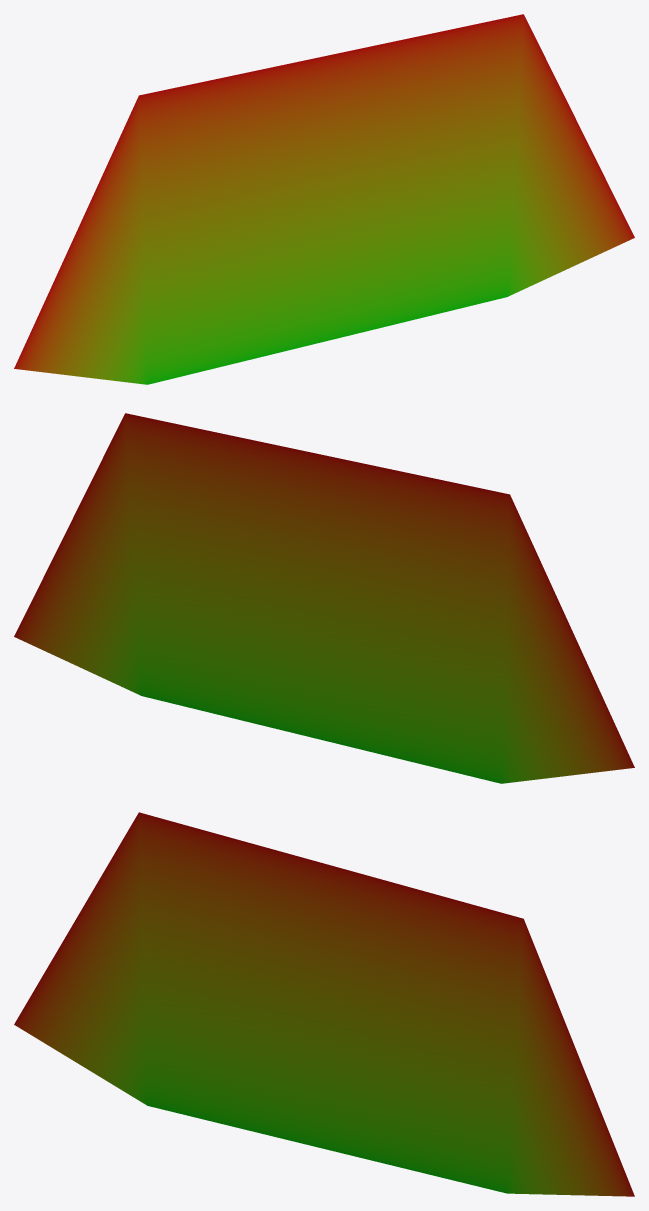
File: Tundra Grass_LOD7_Var30_wk2oaeyqx.fbx
The picture shows the model from 3 angles, top to bottom: view 1: azimuth 30°, elevation 25°; view 2: azimuth 150°, elevation 25°; view 3: azimuth 330°, elevation 25°; orthographic projection.
Visible parts, largest first — view 1: _91mw_Var30_LOD7; view 2: _91mw_Var30_LOD7; view 3: _91mw_Var30_LOD7.
Part boxes in pixels (x1,y1,x2,y2): _91mw_Var30_LOD7: [14, 14, 634, 384]; _91mw_Var30_LOD7: [14, 413, 634, 783]; _91mw_Var30_LOD7: [14, 812, 634, 1196].
Bounding box in the file's own units: 42.52 × 19.07 × 7.88e-07.
